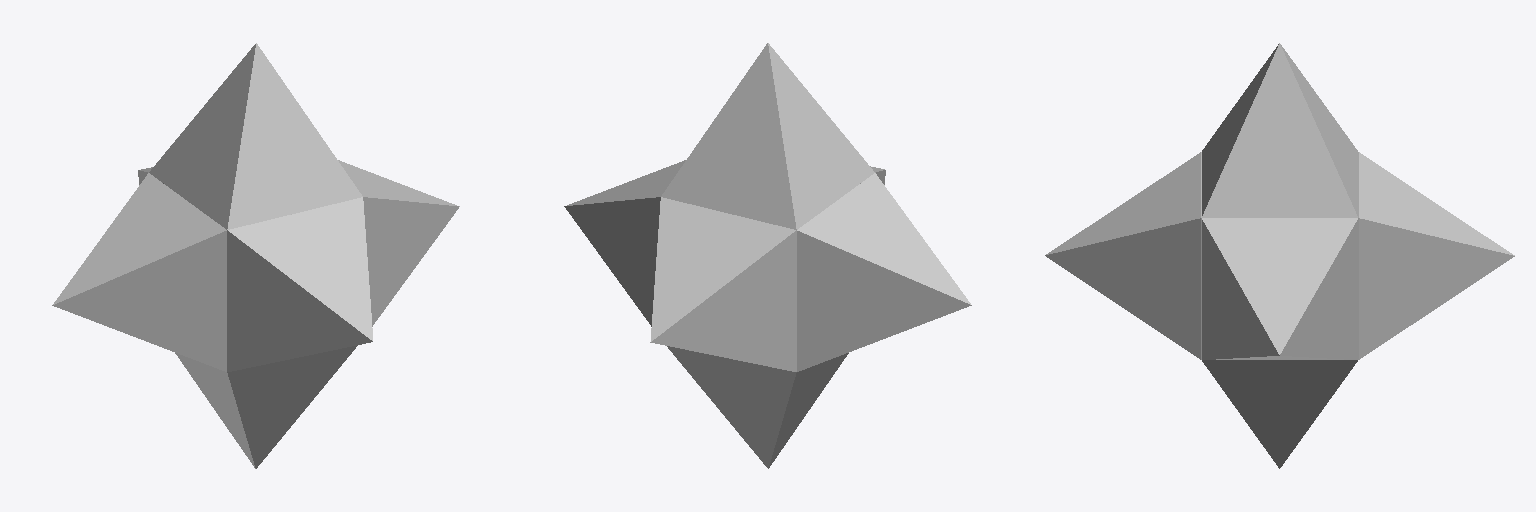
File: star.obj
3 renders of one model, left to right at view 1: azimuth 30°, elevation 25°; view 2: azimuth 150°, elevation 25°; view 3: azimuth 270°, elevation 25°, orthographic.
Size of the model in its own units: 60 by 60 by 60.